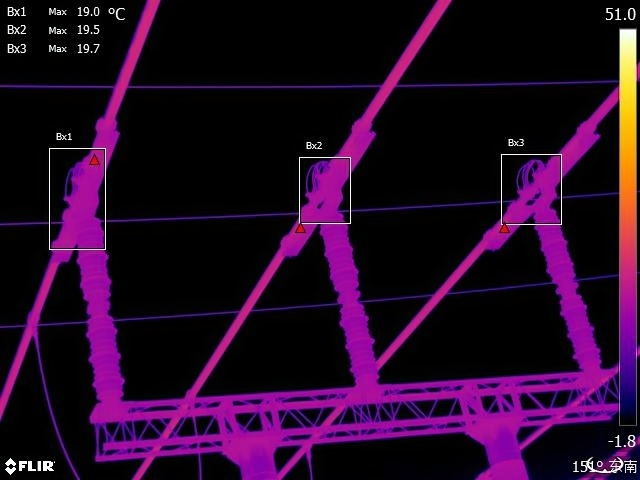post insulator: (66, 220, 136, 402), (539, 206, 609, 379), (322, 203, 386, 385)
